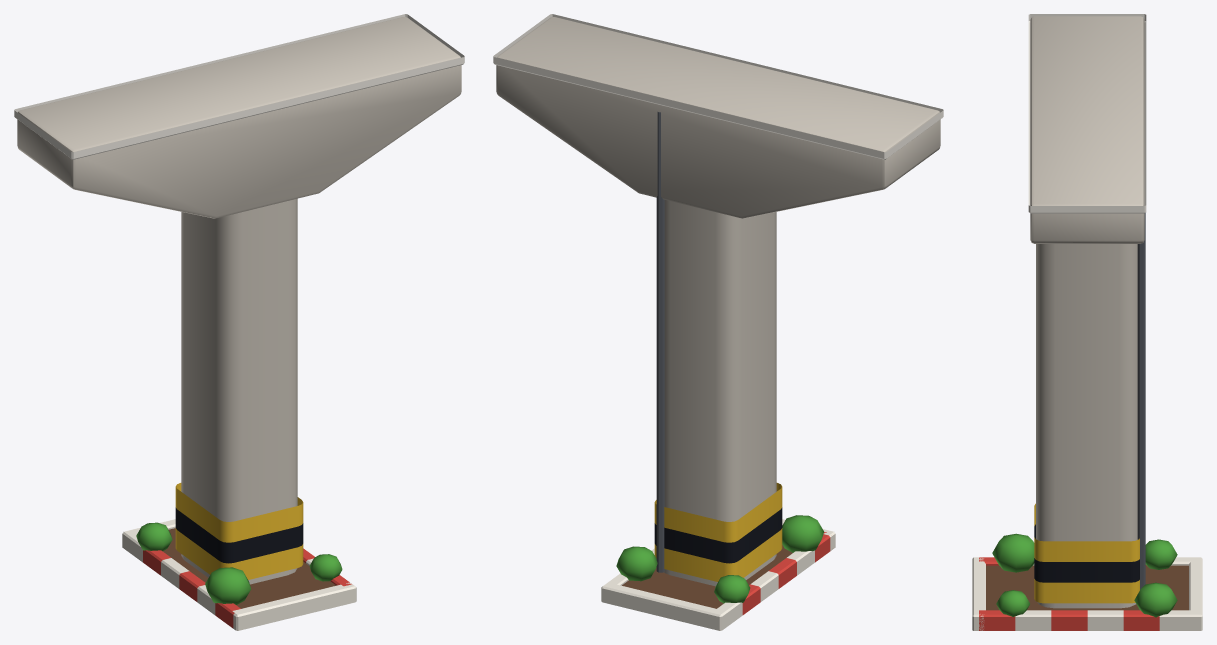
File: bts_pillar.glb
3 renders of one model, left to right at view 1: azimuth 30°, elevation 25°; view 2: azimuth 150°, elevation 25°; view 3: azimuth 270°, elevation 25°, orthographic.
Visible parts, largest first — view 1: body; view 2: body; view 3: body.
Part boxes in pixels (x1,y1,x2,y2): body: (14, 14, 464, 630); body: (493, 14, 943, 630); body: (972, 14, 1202, 630).
Bounding box in the file's own units: 7.96 × 9.5 × 4.04.
